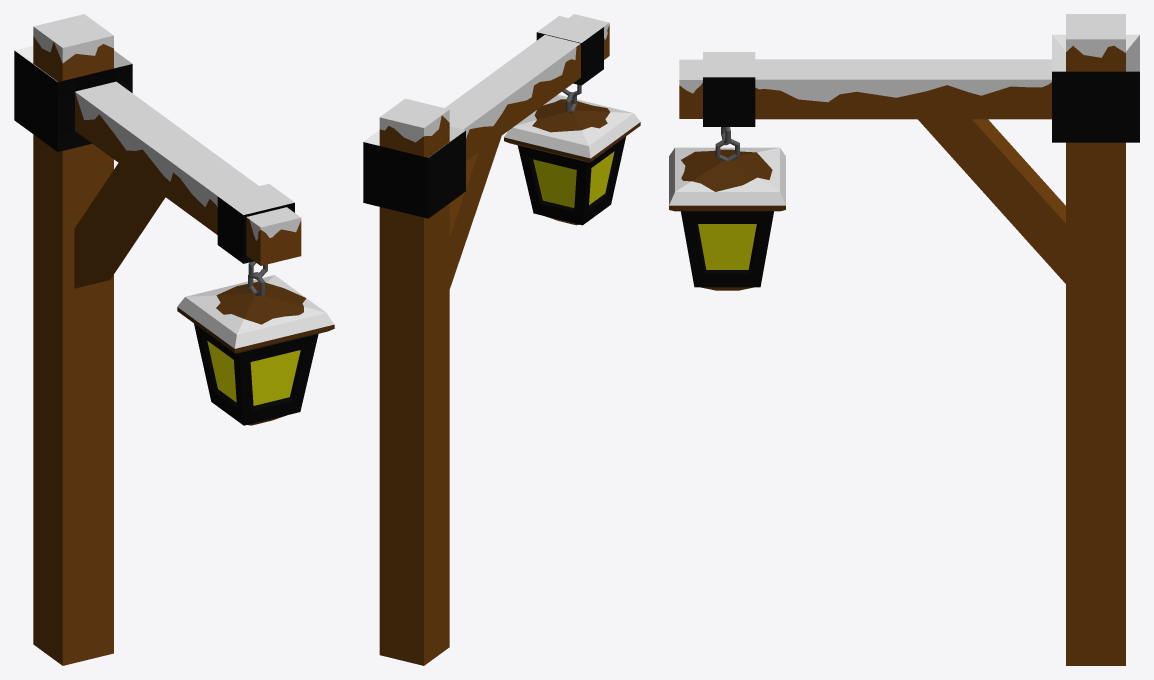
The model's file is latarnia 1.fbx.
3 renders of one model, left to right at view 1: azimuth 30°, elevation 25°; view 2: azimuth 150°, elevation 25°; view 3: azimuth 270°, elevation 25°, orthographic. The views are drawn at different scales.
Visible parts, largest first — view 1: Cube.001; view 2: Cube.001; view 3: Cube.001.
Part boxes in pixels (x1,y1,x2,y2): Cube.001: [14, 14, 334, 665]; Cube.001: [363, 14, 640, 665]; Cube.001: [669, 14, 1139, 665].
Size of the model in its own units: 195 by 1154 by 786.
